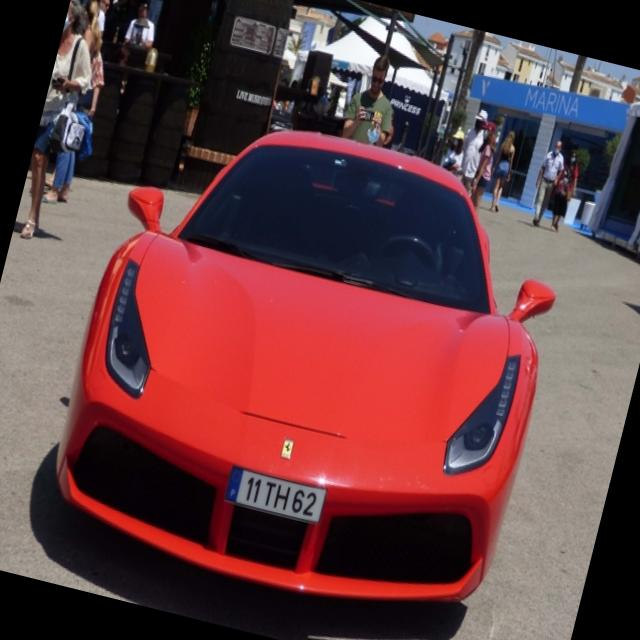portuguese-license-plates: (222, 464, 329, 525)
